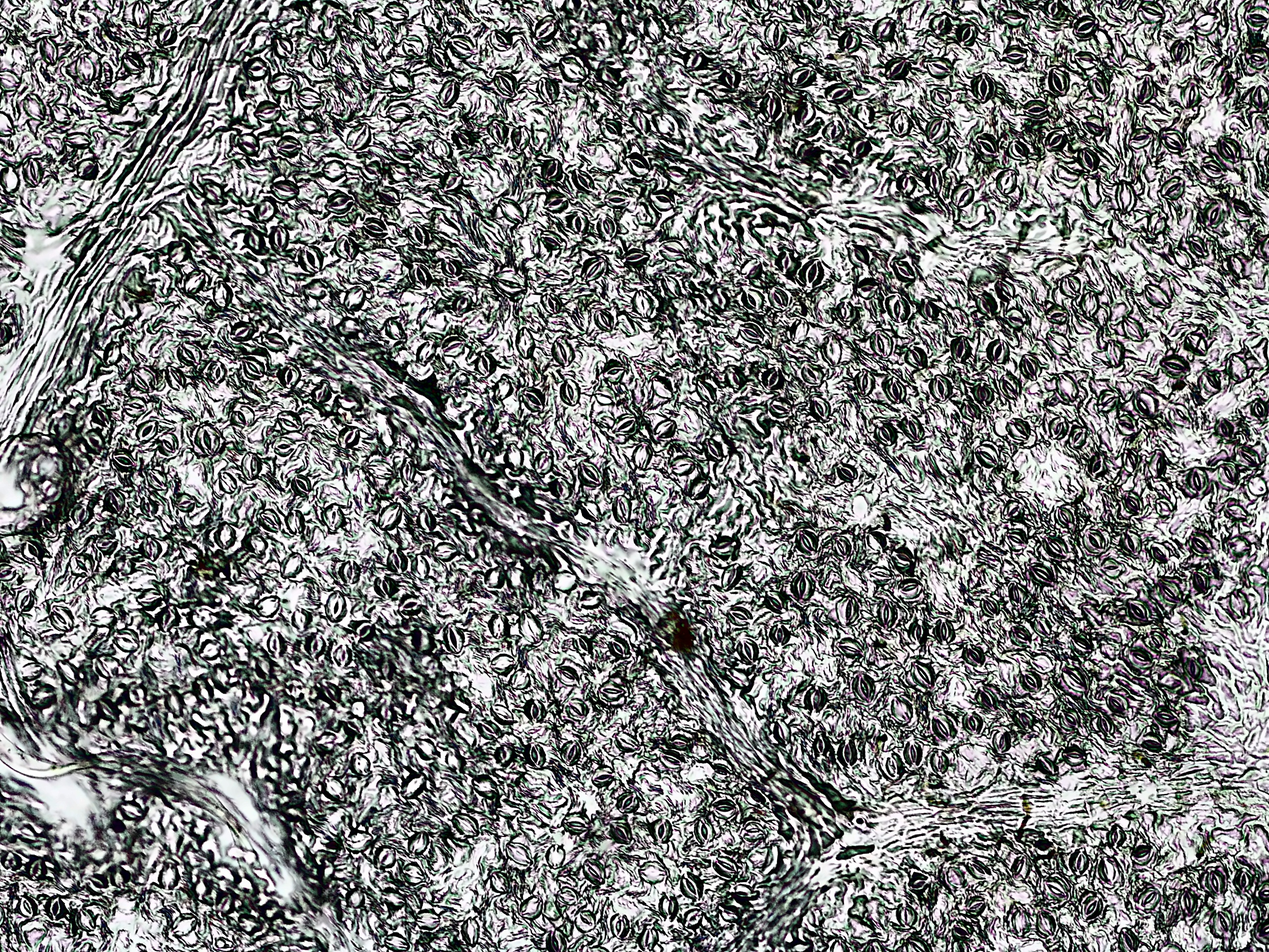stomata: (755, 15, 790, 50), (495, 190, 529, 225), (575, 852, 610, 886), (337, 119, 370, 155), (505, 320, 534, 360), (519, 382, 553, 416), (445, 806, 477, 842), (636, 858, 675, 887), (970, 71, 1002, 104), (324, 772, 355, 806), (491, 267, 527, 296), (1069, 11, 1104, 40), (561, 52, 593, 83), (487, 72, 520, 102), (497, 841, 535, 867), (1130, 70, 1156, 108), (296, 241, 325, 275), (834, 593, 861, 629), (483, 604, 509, 641), (557, 807, 594, 833), (517, 611, 546, 644), (1074, 113, 1112, 138), (341, 283, 368, 318), (378, 496, 405, 531), (578, 459, 609, 489), (21, 91, 50, 123), (642, 9, 670, 42), (317, 496, 343, 531), (380, 306, 405, 342), (278, 549, 308, 579), (171, 905, 201, 935), (328, 232, 357, 263), (871, 599, 900, 630), (381, 65, 414, 92), (313, 673, 346, 700), (396, 771, 427, 799), (434, 621, 462, 652), (35, 32, 61, 65), (997, 165, 1023, 198), (738, 823, 775, 846), (671, 905, 705, 930), (1011, 904, 1036, 938), (351, 747, 380, 776), (133, 580, 163, 608), (583, 253, 611, 283), (654, 240, 690, 263), (1089, 73, 1114, 106), (790, 569, 814, 603), (923, 50, 957, 74), (486, 24, 514, 53), (326, 188, 356, 215), (616, 594, 643, 624), (562, 302, 588, 333), (1004, 44, 1035, 70), (1047, 63, 1071, 96), (752, 89, 776, 122), (619, 150, 647, 178), (175, 538, 202, 567), (1158, 174, 1187, 201), (969, 131, 992, 165), (187, 601, 217, 627), (412, 733, 442, 759), (568, 170, 599, 195), (27, 683, 58, 708), (171, 490, 206, 512), (467, 773, 502, 795), (408, 259, 432, 291), (442, 329, 466, 361), (347, 617, 380, 640), (1174, 76, 1197, 109), (68, 555, 95, 583), (261, 632, 289, 659), (499, 445, 526, 473), (870, 17, 897, 45), (883, 48, 910, 76), (887, 697, 913, 726), (1079, 892, 1105, 921), (657, 270, 682, 300), (123, 682, 153, 707), (439, 77, 463, 108), (834, 25, 865, 49), (1163, 130, 1194, 154), (836, 639, 868, 662), (824, 81, 856, 104), (886, 543, 921, 564), (632, 289, 658, 317), (540, 845, 568, 871), (56, 656, 81, 685), (666, 448, 695, 473), (1034, 910, 1059, 939), (1213, 130, 1238, 159), (129, 364, 153, 394), (723, 607, 759, 627), (277, 408, 311, 429), (210, 281, 233, 312), (711, 563, 743, 585), (300, 274, 327, 300), (593, 306, 620, 332), (911, 660, 937, 687), (1114, 925, 1140, 952), (268, 224, 293, 252), (363, 214, 391, 239), (712, 854, 740, 879), (1169, 39, 1194, 67), (255, 594, 284, 618), (404, 620, 427, 650), (706, 537, 744, 555), (450, 291, 476, 317), (467, 349, 493, 375), (1243, 41, 1269, 67), (786, 63, 812, 89), (602, 117, 627, 144), (657, 892, 682, 919), (647, 820, 672, 847), (238, 129, 262, 157), (518, 895, 546, 919), (669, 877, 701, 898), (1191, 11, 1223, 32), (1069, 48, 1101, 69), (268, 181, 303, 200), (560, 374, 579, 409), (142, 534, 164, 564), (344, 831, 374, 853), (489, 702, 519, 724), (245, 224, 266, 255), (388, 102, 419, 123), (591, 385, 622, 406), (615, 789, 640, 815), (928, 84, 953, 110), (69, 501, 93, 528), (596, 214, 620, 241), (698, 380, 722, 407), (631, 441, 655, 468), (474, 717, 501, 741), (662, 746, 686, 773), (1128, 123, 1152, 150), (951, 179, 975, 206), (487, 654, 521, 673), (894, 578, 928, 597), (406, 219, 429, 247), (158, 605, 181, 633), (372, 572, 400, 595), (1079, 147, 1102, 175), (649, 187, 678, 209), (610, 911, 632, 940), (365, 460, 395, 481), (333, 565, 363, 586), (588, 766, 625, 783), (0, 162, 19, 195), (658, 114, 683, 139), (430, 133, 454, 159), (334, 422, 360, 446), (328, 641, 352, 667), (612, 498, 635, 525), (856, 675, 879, 702), (390, 134, 412, 162), (428, 42, 450, 70), (683, 42, 705, 70), (804, 683, 826, 711), (77, 54, 98, 83), (136, 468, 165, 489), (604, 187, 633, 208), (324, 591, 345, 620), (397, 595, 426, 616), (798, 526, 819, 555), (200, 426, 220, 456), (45, 892, 65, 922), (73, 908, 98, 932), (381, 931, 411, 951), (896, 902, 921, 926), (377, 183, 403, 206), (321, 156, 347, 179), (134, 414, 160, 437), (118, 797, 144, 820), (409, 553, 432, 579), (713, 759, 739, 782), (971, 855, 994, 881), (1002, 4, 1028, 27), (1005, 139, 1031, 162), (306, 46, 328, 73), (202, 183, 229, 205), (260, 331, 287, 353), (239, 357, 266, 379), (863, 529, 890, 551), (602, 638, 633, 657), (632, 109, 652, 138), (891, 108, 911, 137), (98, 529, 122, 553), (553, 333, 571, 365), (447, 35, 472, 58), (704, 439, 729, 462), (786, 3, 809, 28), (538, 75, 560, 101), (555, 743, 581, 765), (906, 866, 928, 892), (513, 123, 534, 150), (537, 11, 554, 44), (334, 391, 362, 411), (414, 908, 442, 928), (493, 869, 513, 897), (551, 570, 579, 590), (165, 365, 188, 389), (237, 455, 260, 479), (135, 494, 159, 517), (402, 32, 425, 56), (421, 6, 444, 30), (688, 476, 711, 500), (87, 430, 110, 454), (372, 847, 396, 870), (405, 832, 429, 855), (463, 920, 486, 944), (639, 927, 662, 951), (738, 638, 761, 662), (746, 786, 770, 809), (1138, 887, 1161, 911), (258, 509, 283, 531), (87, 605, 112, 627), (291, 468, 313, 493), (280, 673, 305, 695), (1044, 879, 1069, 901), (94, 701, 120, 722), (24, 539, 44, 566), (724, 363, 744, 390), (0, 847, 20, 874), (935, 715, 954, 743), (1008, 852, 1027, 880), (213, 470, 236, 493), (100, 488, 123, 511), (1246, 3, 1269, 26), (653, 378, 677, 400), (1034, 750, 1056, 774), (926, 17, 948, 41), (1143, 1, 1167, 23), (123, 397, 154, 414), (14, 588, 35, 613), (654, 420, 679, 441), (159, 862, 180, 887), (382, 549, 407, 570), (494, 746, 519, 767), (926, 117, 947, 142), (255, 193, 273, 222), (510, 672, 539, 690), (626, 241, 646, 267), (65, 128, 92, 147), (433, 542, 460, 561), (1253, 80, 1269, 112), (576, 589, 606, 606), (352, 11, 375, 33), (452, 127, 475, 149), (546, 190, 568, 213), (771, 625, 793, 648), (122, 48, 143, 72), (114, 446, 135, 470), (543, 291, 564, 315), (212, 658, 230, 686), (417, 505, 438, 529), (931, 750, 949, 778), (1098, 859, 1119, 883), (256, 99, 281, 119), (721, 64, 741, 89), (596, 685, 629, 700), (39, 512, 58, 538), (770, 717, 789, 743), (398, 457, 415, 486), (275, 29, 293, 56), (312, 379, 330, 406), (386, 2, 413, 20), (690, 820, 708, 847), (1130, 845, 1157, 863), (98, 339, 120, 361), (549, 476, 571, 498), (214, 891, 235, 914), (526, 701, 549, 722), (1039, 3, 1060, 26), (114, 630, 138, 650), (604, 364, 628, 384), (285, 509, 305, 533), (28, 856, 48, 880), (1203, 156, 1223, 180), (898, 172, 918, 196), (727, 888, 755, 905), (966, 709, 983, 737), (282, 368, 301, 393), (404, 863, 429, 882), (529, 451, 554, 470), (581, 502, 600, 527), (526, 741, 545, 766), (1068, 847, 1087, 872), (52, 604, 70, 630), (49, 102, 71, 123), (169, 240, 191, 261), (197, 635, 219, 656), (549, 929, 571, 950), (1212, 914, 1233, 936), (440, 254, 460, 277), (1024, 97, 1047, 117), (290, 603, 307, 630), (1176, 887, 1193, 914), (213, 522, 232, 546), (620, 733, 644, 752), (493, 375, 508, 405), (555, 667, 580, 685), (871, 568, 896, 586), (305, 632, 322, 658), (93, 402, 113, 424), (18, 659, 40, 679), (541, 159, 561, 181), (77, 160, 100, 179), (270, 72, 293, 91), (610, 825, 629, 848), (898, 935, 925, 951), (926, 168, 942, 195), (960, 25, 977, 50), (571, 633, 591, 654), (850, 139, 871, 159), (568, 701, 590, 720), (1012, 711, 1034, 730), (300, 117, 326, 133), (541, 233, 567, 249), (193, 678, 209, 704), (883, 757, 899, 783), (795, 102, 811, 128), (157, 437, 180, 455), (0, 558, 18, 581), (856, 102, 874, 125), (606, 790, 643, 801), (136, 0, 151, 27), (572, 209, 587, 236), (951, 859, 966, 886), (341, 718, 366, 734), (1046, 126, 1067, 145), (185, 270, 203, 292), (275, 438, 297, 456), (767, 587, 785, 609), (159, 27, 176, 50), (345, 890, 365, 909), (557, 886, 578, 904), (391, 164, 413, 181), (834, 537, 851, 559), (210, 353, 222, 384), (279, 139, 302, 155), (446, 170, 462, 193), (1206, 870, 1222, 893), (364, 161, 383, 180), (577, 912, 596, 931), (969, 894, 988, 913), (954, 920, 973, 939), (231, 405, 251, 423), (491, 121, 506, 145), (904, 743, 922, 763), (0, 69, 17, 90), (230, 321, 251, 338), (178, 343, 199, 360), (416, 342, 433, 363), (28, 161, 41, 188), (249, 531, 264, 554), (1104, 826, 1124, 843), (0, 18, 12, 46), (95, 655, 110, 677), (17, 890, 30, 915), (302, 88, 321, 105), (1233, 868, 1250, 887), (993, 731, 1007, 754), (841, 742, 856, 763), (247, 59, 269, 73), (617, 413, 634, 431), (15, 14, 33, 30), (813, 733, 825, 757), (1245, 905, 1261, 922), (2, 112, 13, 136), (715, 798, 731, 814), (976, 689, 993, 704), (827, 124, 842, 140), (1255, 883, 1268, 899), (1260, 919, 1269, 939)
